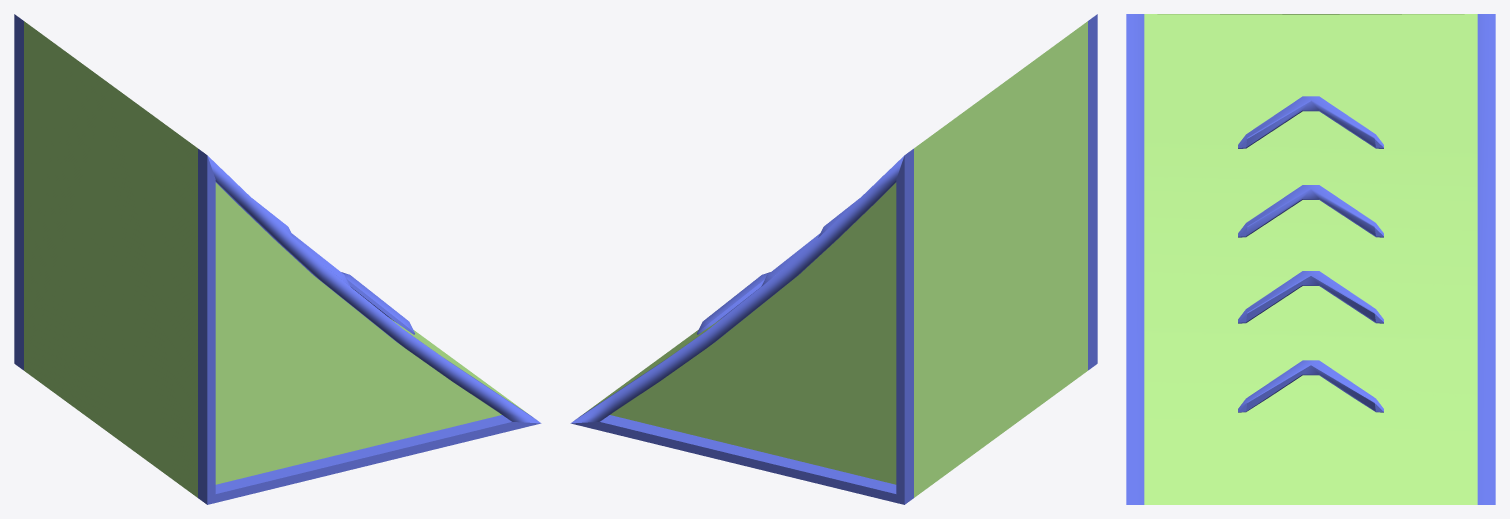
The model's file is BoostRamp.fbx.
The picture shows the model from 3 angles, left to right: view 1: azimuth 30°, elevation 25°; view 2: azimuth 150°, elevation 25°; view 3: azimuth 270°, elevation 25°; orthographic projection. The views are drawn at different scales.
Parts seen in each view (by area): view 1: BoostRamp, Arrow.003; view 2: BoostRamp, Arrow.003; view 3: BoostRamp, Arrow, Arrow.003, Arrow.001, Arrow.002.
Boxes of the visible parts, x1=… form: BoostRamp: x1=14, y1=14, x2=541, y2=504; Arrow.003: x1=341, y1=272, x2=414, y2=334; BoostRamp: x1=570, y1=14, x2=1097, y2=504; Arrow.003: x1=697, y1=272, x2=770, y2=334; BoostRamp: x1=1126, y1=14, x2=1495, y2=504; Arrow: x1=1238, y1=96, x2=1383, y2=148; Arrow.003: x1=1238, y1=360, x2=1383, y2=412; Arrow.001: x1=1238, y1=185, x2=1383, y2=237; Arrow.002: x1=1238, y1=271, x2=1383, y2=323.
Bounding box in the file's own units: 400 × 400 × 400.
